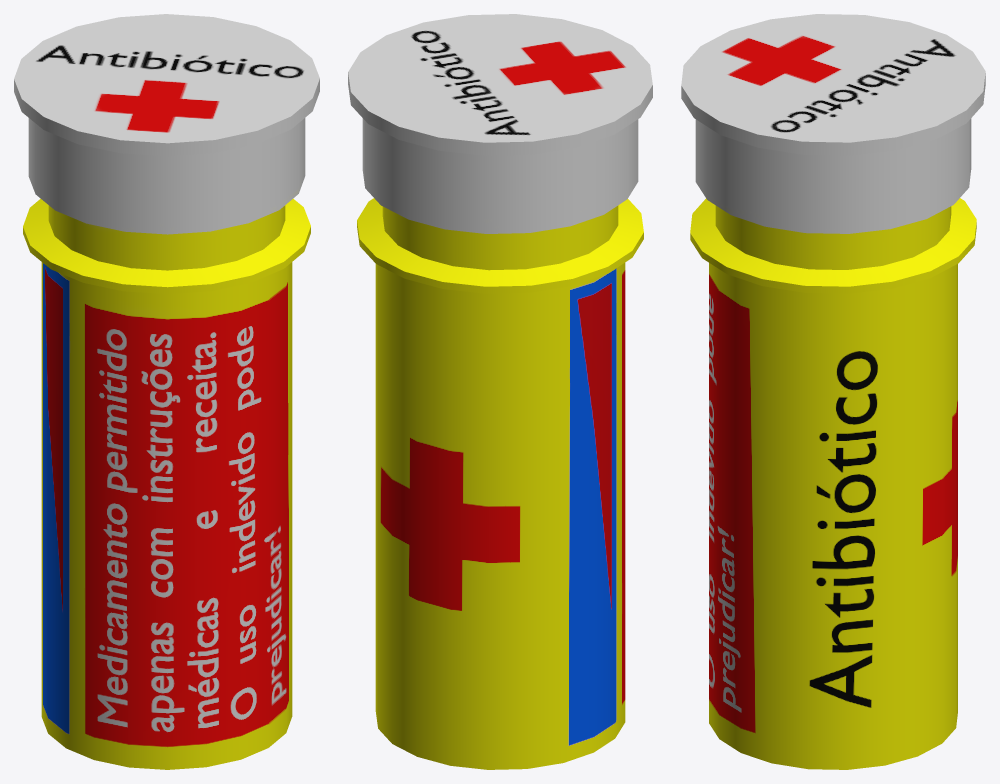
The model's file is Antibiotico.fbx.
3 renders of one model, left to right at view 1: azimuth 30°, elevation 25°; view 2: azimuth 150°, elevation 25°; view 3: azimuth 270°, elevation 25°, orthographic.
Parts seen in each view (by area): view 1: Antibiotico; view 2: Antibiotico; view 3: Antibiotico.
Part boxes in pixels (x1=…): Antibiotico: x1=14, y1=14, x2=319, y2=769; Antibiotico: x1=348, y1=14, x2=652, y2=769; Antibiotico: x1=681, y1=14, x2=985, y2=769.
Size of the model in its own units: 6.09 by 14.12 by 6.09.
